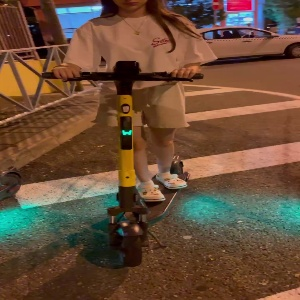human on a scooter: (39, 1, 219, 267)
